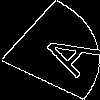A: (25, 25, 100, 79)
